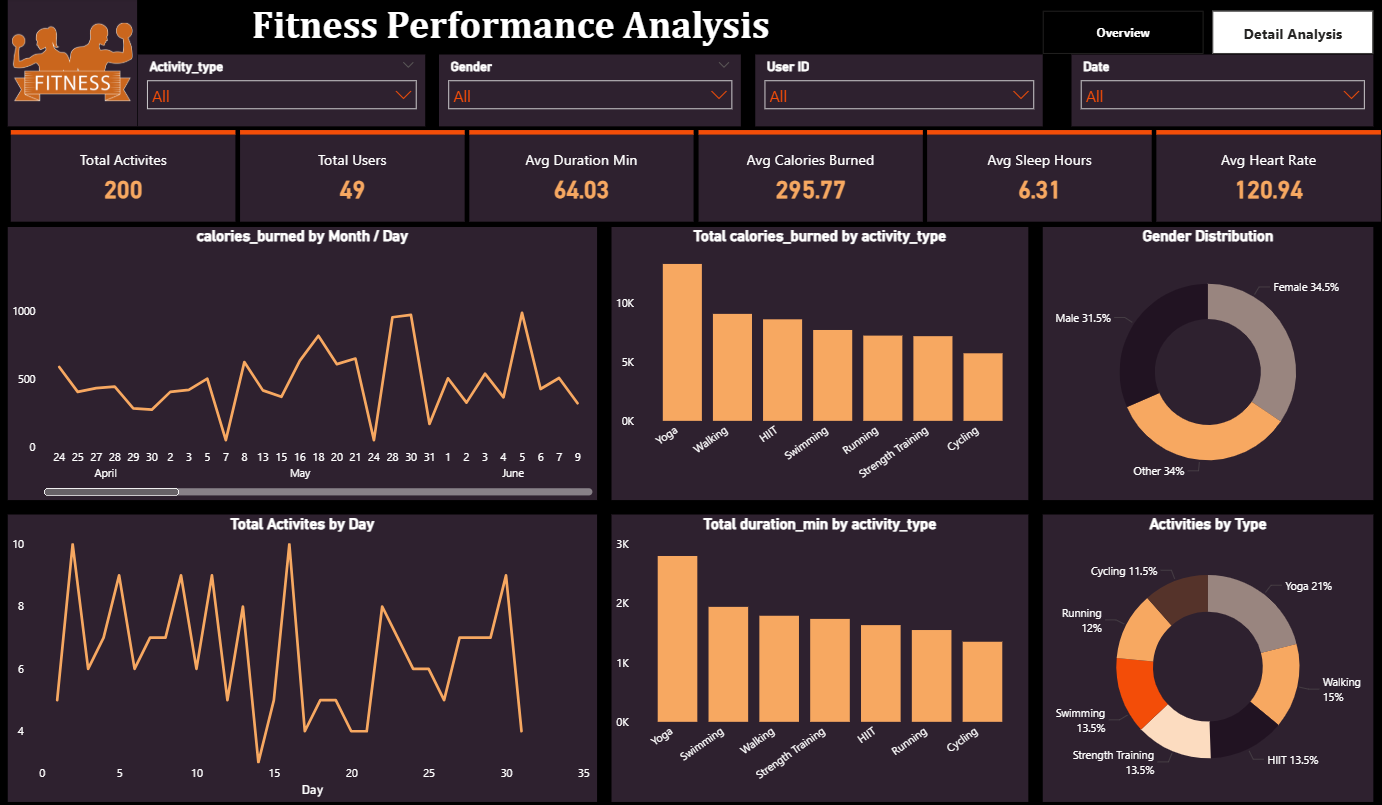

The page's visual inventory and layout, read from the dashboard file:
{"tool":"powerbi","page":{"name":"Overview","canvas":[1550,900],"ordinal":0},"visuals":[{"type":"donutChart","title":"Activities by Type","fields":{"Category":["random_fitness_dataset.activity_type"],"Y":["CountNonNull(random_fitness_dataset.activity_type)"]},"box":[1168,576,368,320],"z":0},{"type":"clusteredColumnChart","title":"Total duration_min by activity_type","fields":{"Category":["random_fitness_dataset.activity_type"],"Y":["Sum(random_fitness_dataset.duration_min)"]},"box":[688,576,464,320],"z":1000},{"type":"columnChart","title":"Total  calories_burned by activity_type","fields":{"Category":["random_fitness_dataset.activity_type"],"Y":["Sum(random_fitness_dataset.calories_burned)"]},"box":[688,256,464,304],"z":2000},{"type":"lineChart","title":"calories_burned by Month / Day","fields":{"Category":["random_fitness_dataset.Date.Variation.Date Hierarchy.Month","random_fitness_dataset.timestamp.Variation.Date Hierarchy.Day"],"Y":["Sum(random_fitness_dataset.calories_burned)"]},"box":[16,256,656,304],"z":3000},{"type":"lineChart","fields":{"Y":["random_fitness_dataset.Total Activites"],"Category":["random_fitness_dataset.timestamp.Variation.Date Hierarchy.Day"]},"box":[16,576,656,320],"z":4000},{"type":"cardVisual","fields":{"Data":["random_fitness_dataset.Total Activites","Count(random_fitness_dataset.user_id)","Avg(random_fitness_dataset.duration_min)","Avg(random_fitness_dataset.calories_burned)","Avg(random_fitness_dataset.sleep_hours)","Avg(random_fitness_dataset.heart_rate_avg)"]},"box":[14,144,1536,112],"z":5000},{"type":"donutChart","title":"Gender Distribution","fields":{"Category":["random_fitness_dataset.gender"],"Y":["CountNonNull(random_fitness_dataset.gender)"]},"box":[1168,256,368,304],"z":6000},{"type":"slicer","fields":{"Values":["random_fitness_dataset.activity_type"]},"box":[160,64,320,80],"z":7000},{"type":"slicer","fields":{"Values":["random_fitness_dataset.Date"]},"box":[1200,64,336,80],"z":8000},{"type":"slicer","fields":{"Values":["random_fitness_dataset.gender"]},"box":[496,64,336,80],"z":9000},{"type":"slicer","fields":{"Values":["random_fitness_dataset.user_id"]},"box":[848,64,320,80],"z":10000},{"type":"pageNavigator","box":[1168,16,368,48],"z":11000},{"type":"textbox","box":[16,0,1120,64],"z":12000},{"type":"image","box":[16,0,144,144],"z":13000}]}

Visuals, with their boxes in screenshot pixels (x1, y1, x2, y2), scaled from the page's 1550x900 canvas onto the 1382x805 screenshot:
"Activities by Type" donutChart: left=1041, top=515, right=1370, bottom=801
"Total duration_min by activity_type" clusteredColumnChart: left=613, top=515, right=1027, bottom=801
"Total  calories_burned by activity_type" columnChart: left=613, top=229, right=1027, bottom=501
"calories_burned by Month / Day" lineChart: left=14, top=229, right=599, bottom=501
lineChart - random_fitness_dataset.Total Activites x random_fitness_dataset.timestamp.Variation.Date Hierarchy.Day: left=14, top=515, right=599, bottom=801
cardVisual - random_fitness_dataset.Total Activites x Count(random_fitness_dataset.user_id): left=12, top=129, right=1381, bottom=229
"Gender Distribution" donutChart: left=1041, top=229, right=1370, bottom=501
slicer - random_fitness_dataset.activity_type: left=143, top=57, right=428, bottom=129
slicer - random_fitness_dataset.Date: left=1070, top=57, right=1370, bottom=129
slicer - random_fitness_dataset.gender: left=442, top=57, right=742, bottom=129
slicer - random_fitness_dataset.user_id: left=756, top=57, right=1041, bottom=129
pageNavigator: left=1041, top=14, right=1370, bottom=57
textbox: left=14, top=0, right=1013, bottom=57
image: left=14, top=0, right=143, bottom=129
